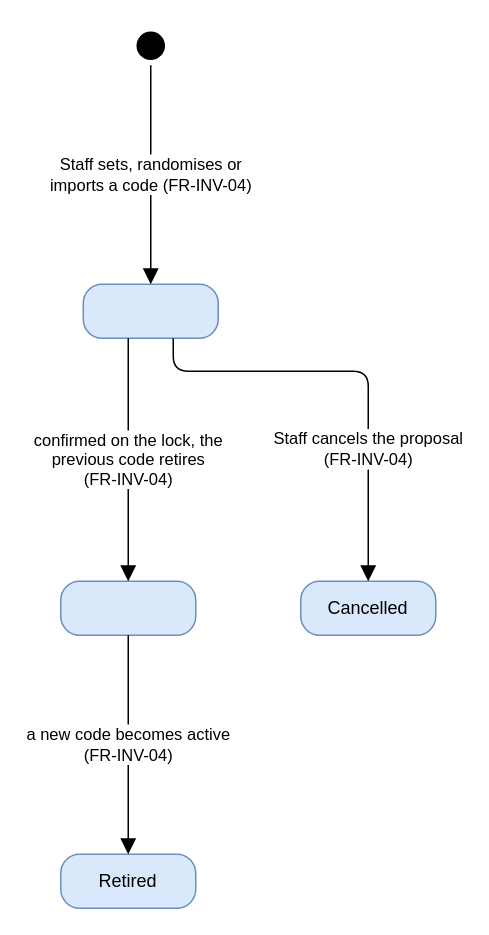
This 489x935 diagram has some shape labels left out. The shapes that lost their labels are listed below. From the top down, each one's centre as x and y in pixels, then its label:
(150,310): Proposed
(127,607): Active
